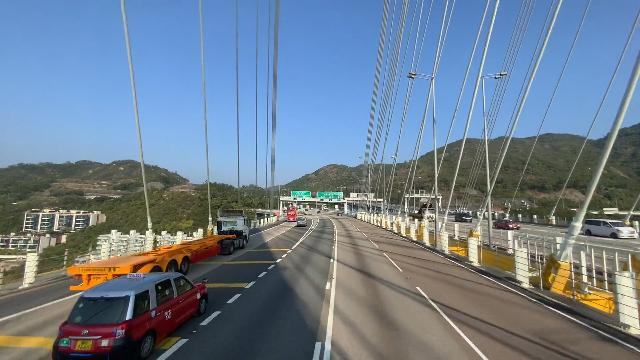bus: (286, 206, 297, 222)
car: (53, 269, 210, 360), (493, 219, 521, 231), (455, 212, 473, 223), (296, 217, 307, 227), (337, 212, 342, 217), (317, 210, 321, 213)
pickup-truck: (582, 218, 638, 239)
truck: (67, 208, 253, 292), (215, 210, 250, 252)
